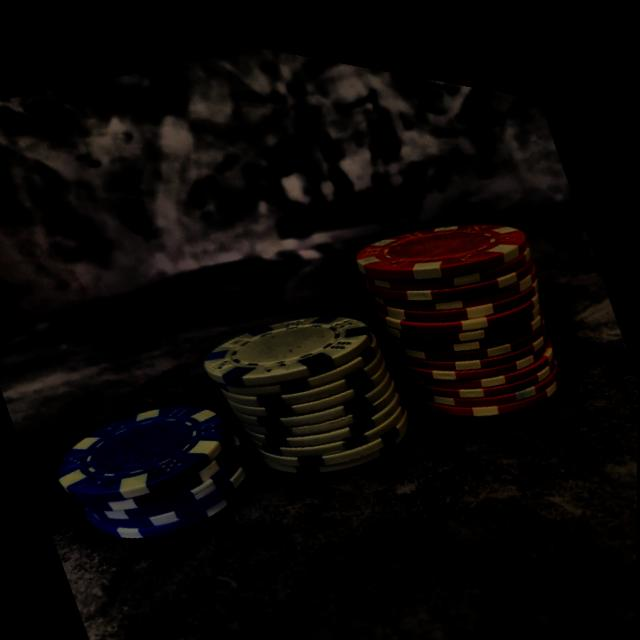Chip: (333, 129, 602, 464), (186, 239, 430, 518), (35, 337, 275, 583)
